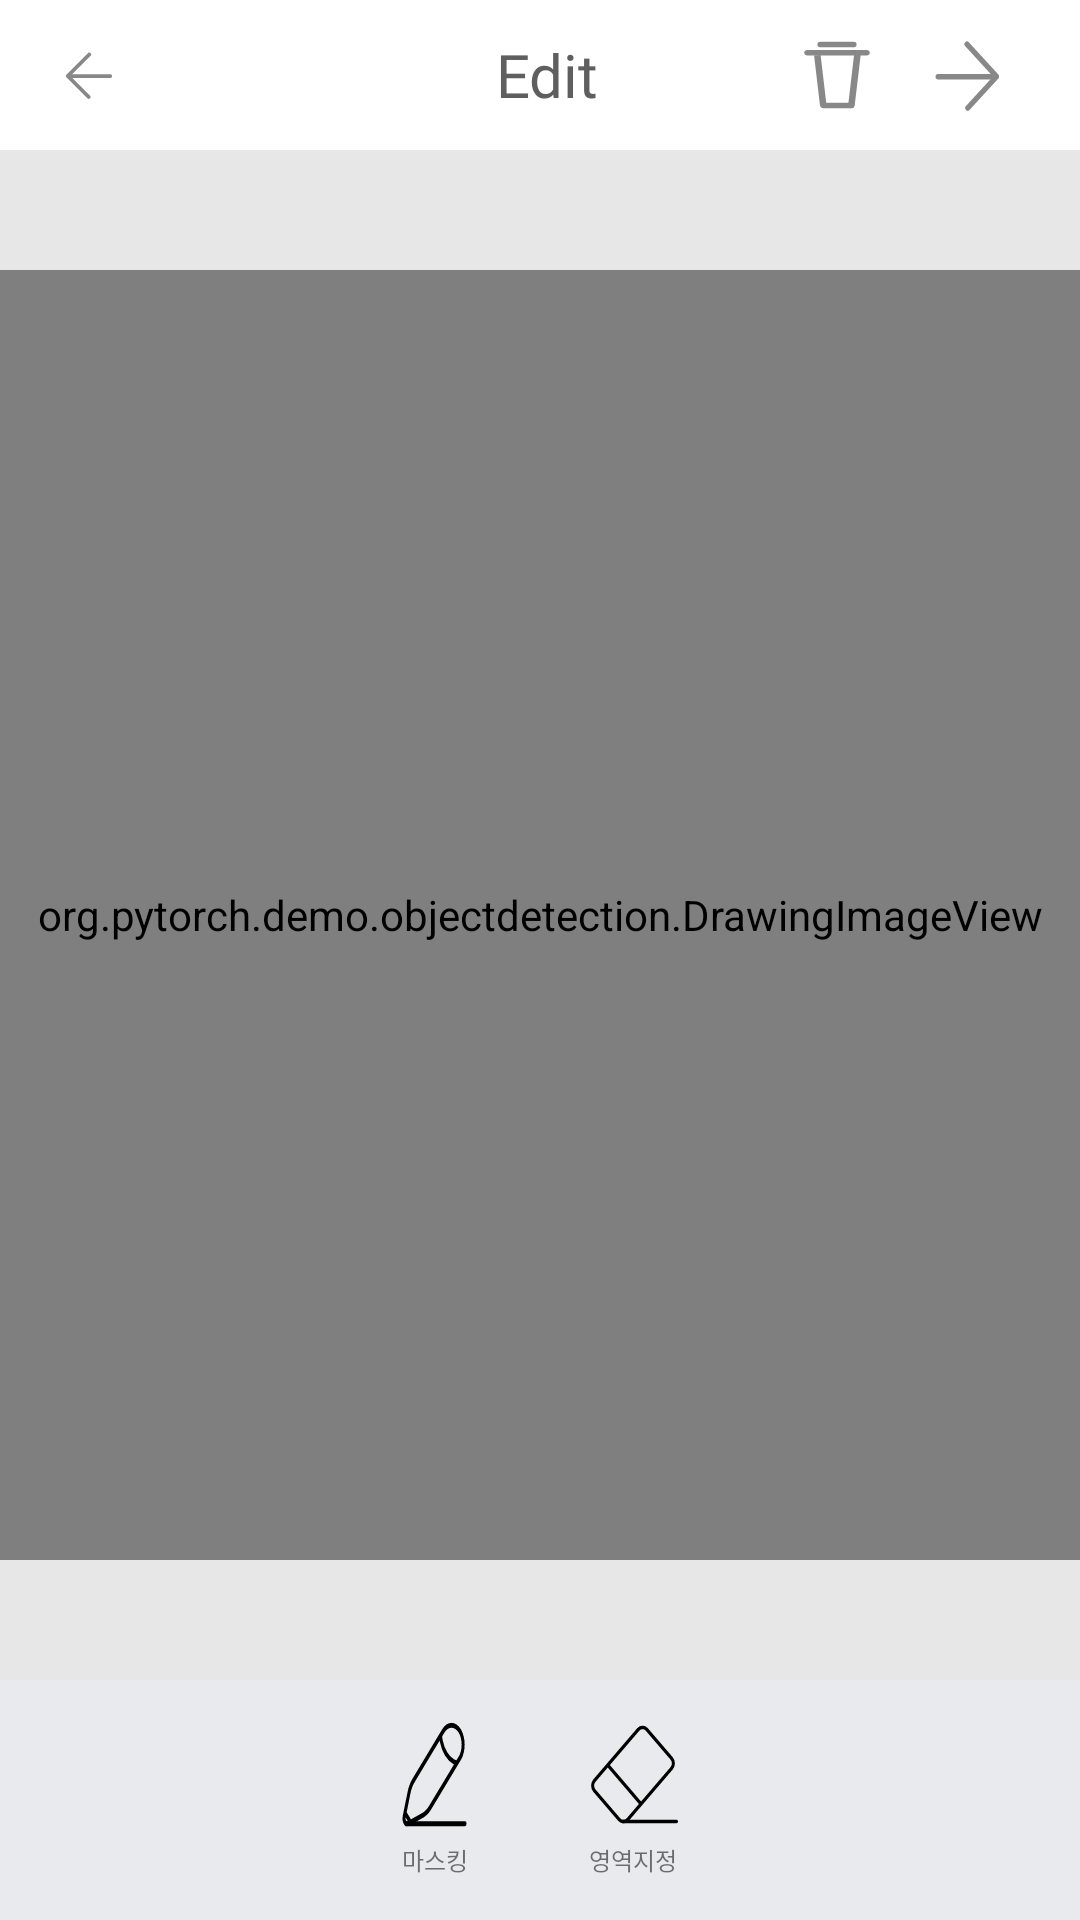

Icons on this 1080 x 1920 Android screen, each with its box as {"left": x1, "top": y1, "right": x2, "bottom": y2}:
backbtn: {"left": 66, "top": 52, "right": 112, "bottom": 99}
erase: {"left": 591, "top": 1725, "right": 678, "bottom": 1824}
garbagebtn: {"left": 804, "top": 41, "right": 870, "bottom": 109}
gobtn: {"left": 935, "top": 41, "right": 999, "bottom": 111}
pen: {"left": 402, "top": 1722, "right": 467, "bottom": 1827}
